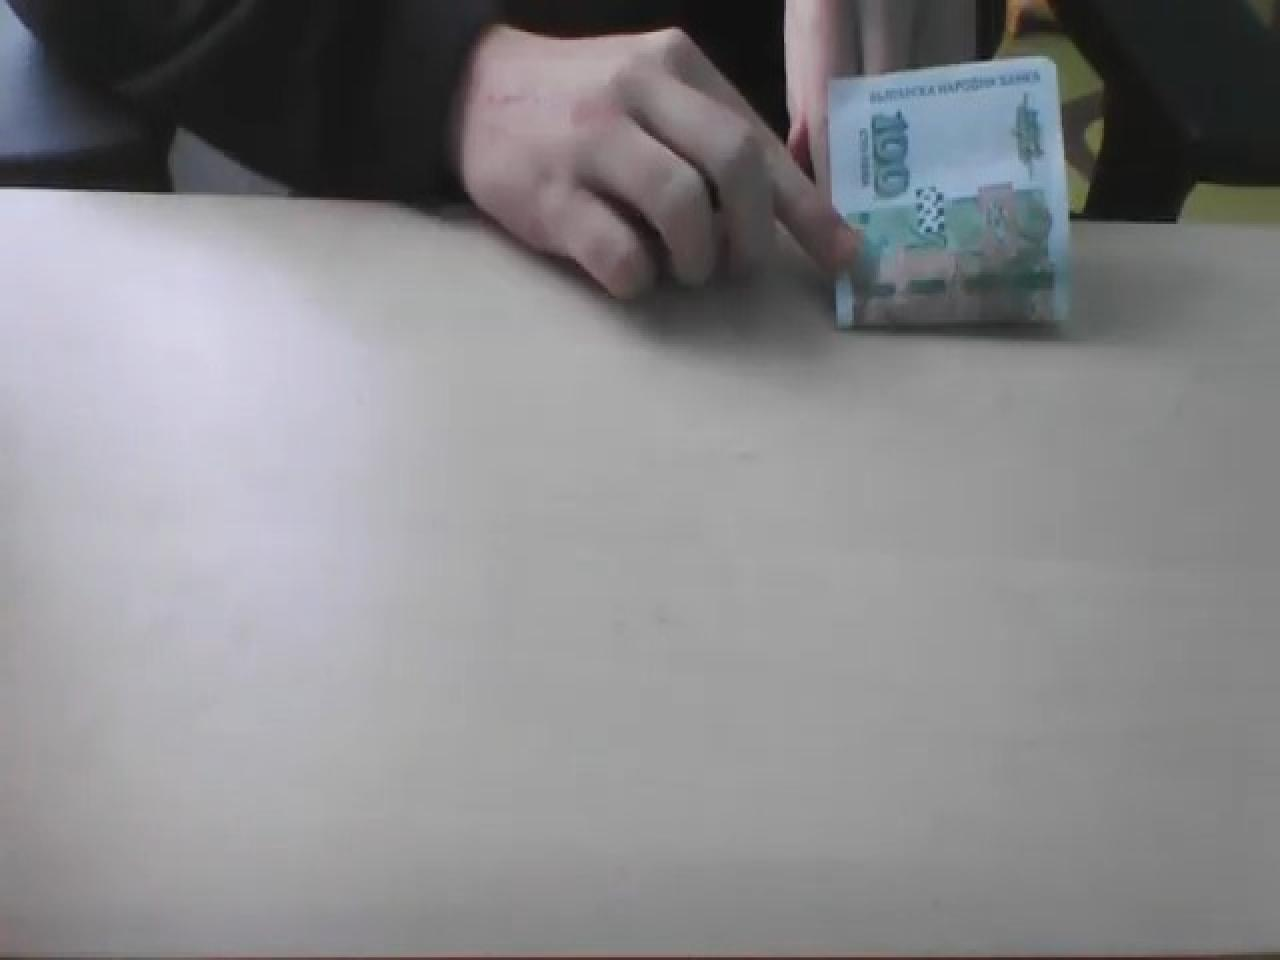100leva: (824, 53, 1072, 331)
